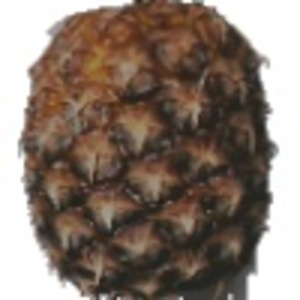abacaxi: (17, 3, 275, 295)
